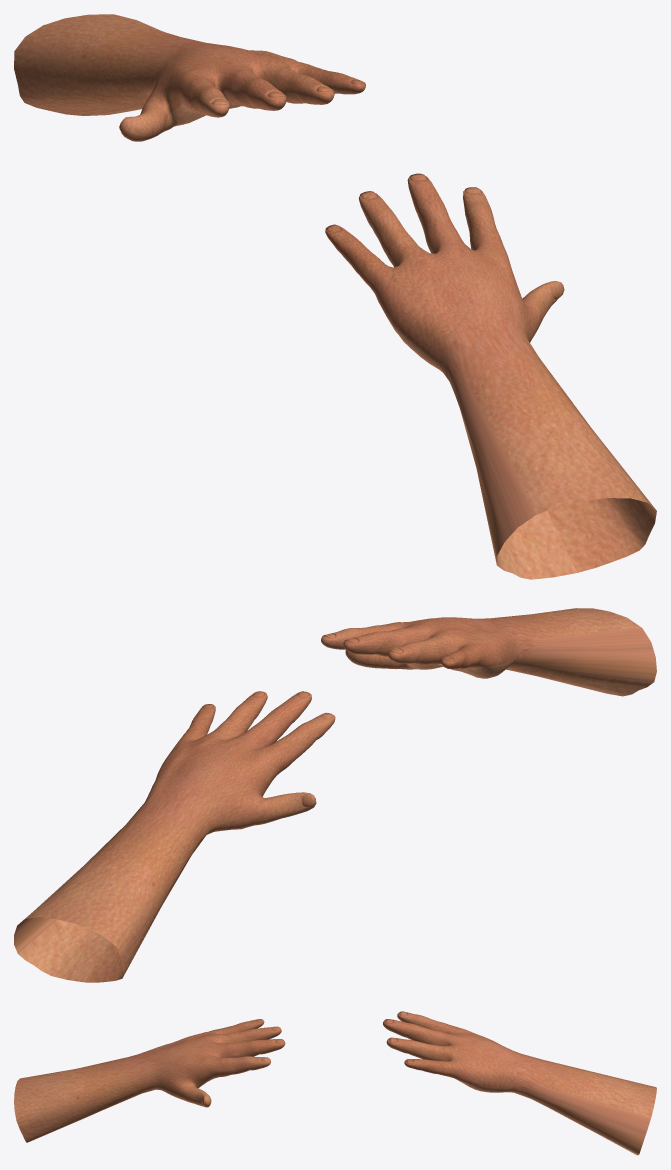
File: hands_000008.obj
The picture shows the model from 3 angles, top to bottom: view 1: azimuth 30°, elevation 25°; view 2: azimuth 150°, elevation 25°; view 3: azimuth 270°, elevation 25°; orthographic projection. The views are drawn at different scales.
Visible parts, largest first — view 1: hand.001_Mesh.001, hand_Mesh; view 2: hand_Mesh, hand.001_Mesh.001; view 3: hand_Mesh, hand.001_Mesh.001.
Boxes of the visible parts, x1,y1,x2,y2 form: hand.001_Mesh.001: (325, 173, 656, 579); hand_Mesh: (14, 14, 365, 141); hand_Mesh: (14, 691, 335, 982); hand.001_Mesh.001: (321, 608, 656, 696); hand_Mesh: (383, 1011, 656, 1155); hand.001_Mesh.001: (14, 1019, 285, 1142).
Bounding box in the file's own units: 1.66 × 1.51 × 7.16.
1 material, 1 textured.
